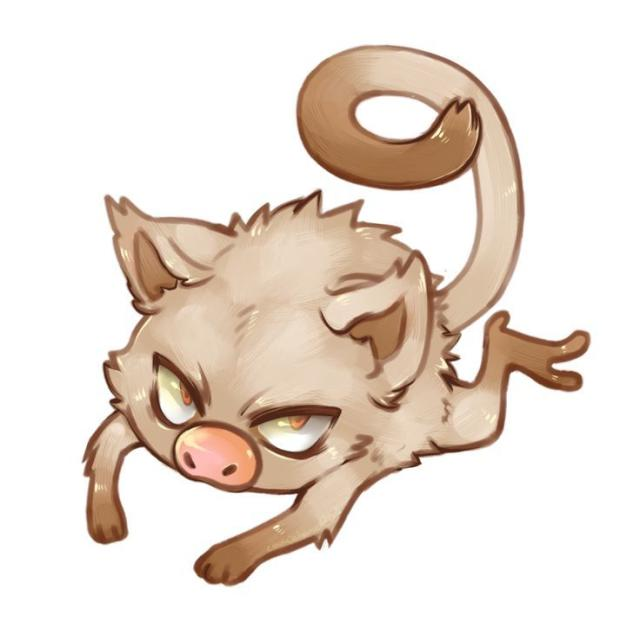Mankey: (85, 186, 515, 563)
